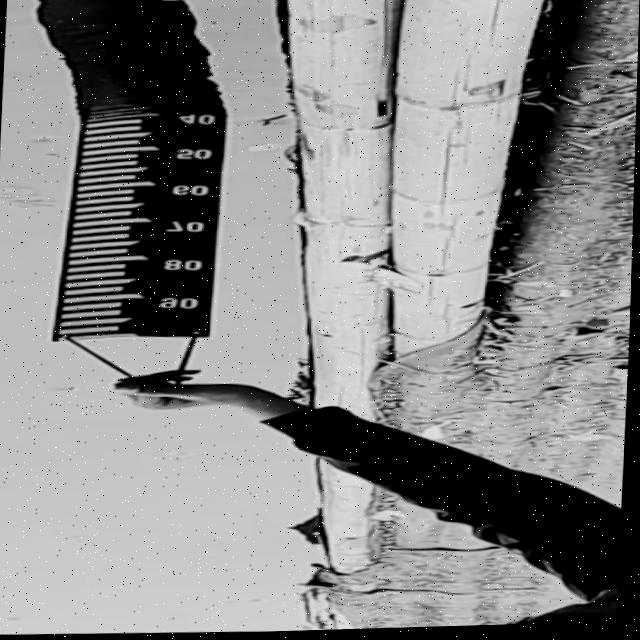water-meter: (38, 92, 259, 351)
